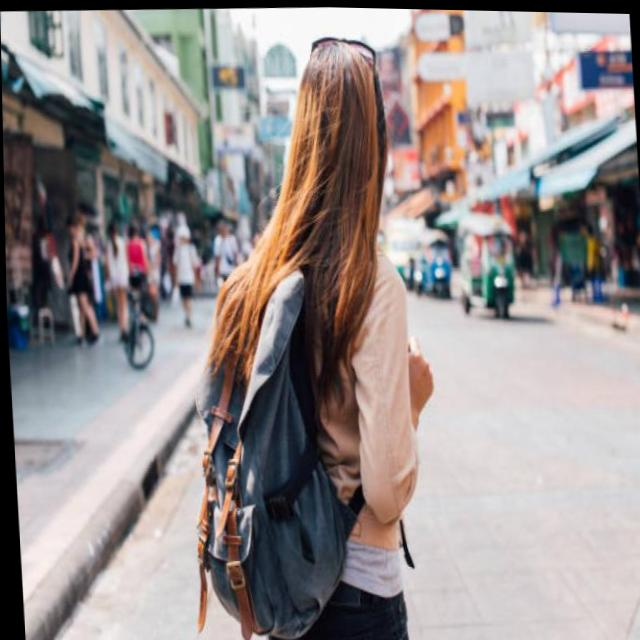no helmet: (288, 40, 391, 244)
